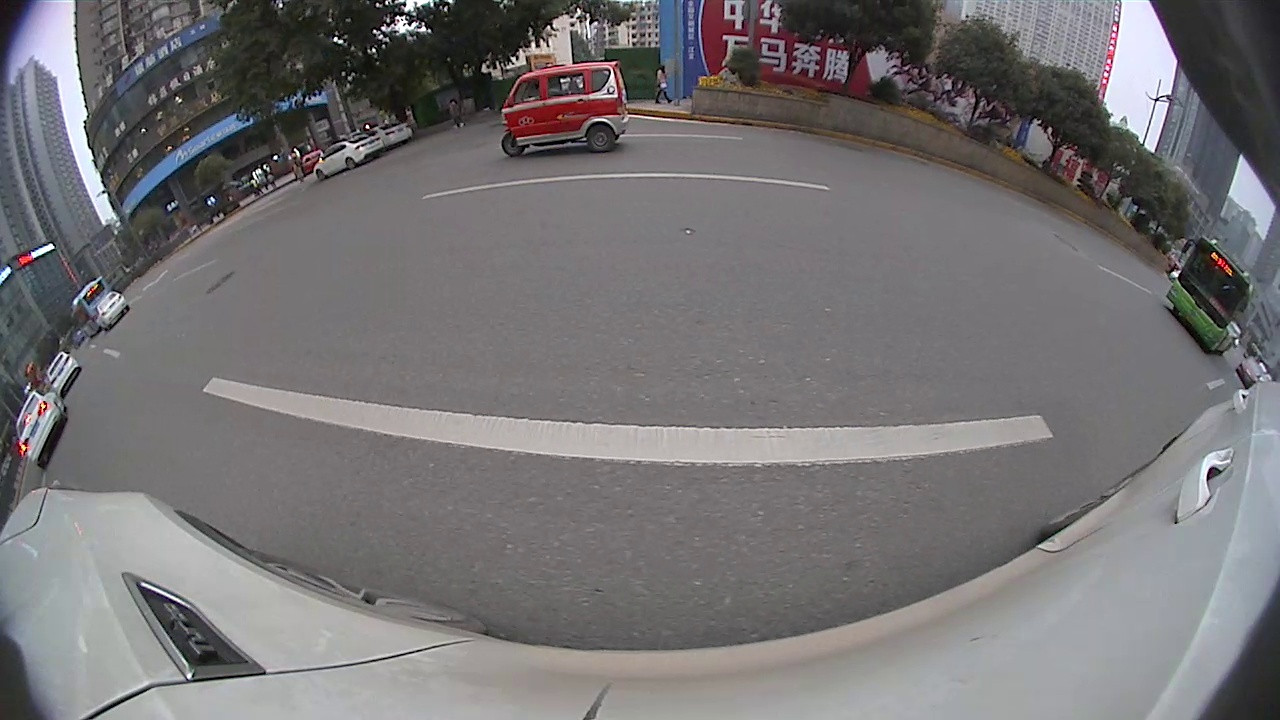bus: (1164, 233, 1252, 354), (69, 277, 115, 333)
car: (16, 387, 66, 471), (312, 135, 383, 183), (43, 350, 84, 393), (95, 290, 133, 324), (366, 120, 414, 144), (1234, 359, 1263, 385)
front: (498, 132, 528, 159), (315, 170, 328, 183)
rear: (583, 125, 617, 154), (343, 157, 359, 173)
rider: (499, 61, 627, 161)
